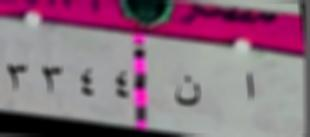3: (38, 63, 65, 97), (7, 59, 30, 93)
4: (73, 65, 101, 98), (109, 67, 132, 104)
alif: (238, 63, 260, 106)
noon: (167, 73, 207, 109)
